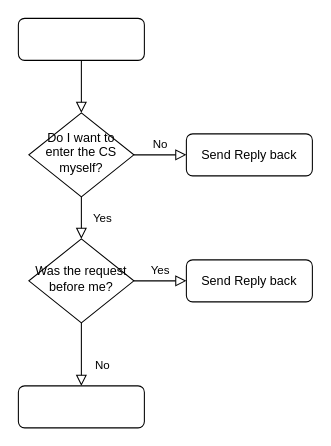
This 331x446 diagram has some shape labels left out. Here are the shapes that lost their labels. From the top down, the box of each, then its label:
(17, 17, 144, 60): Request received
(17, 385, 144, 428): Defer reply (Put the request in queue)
